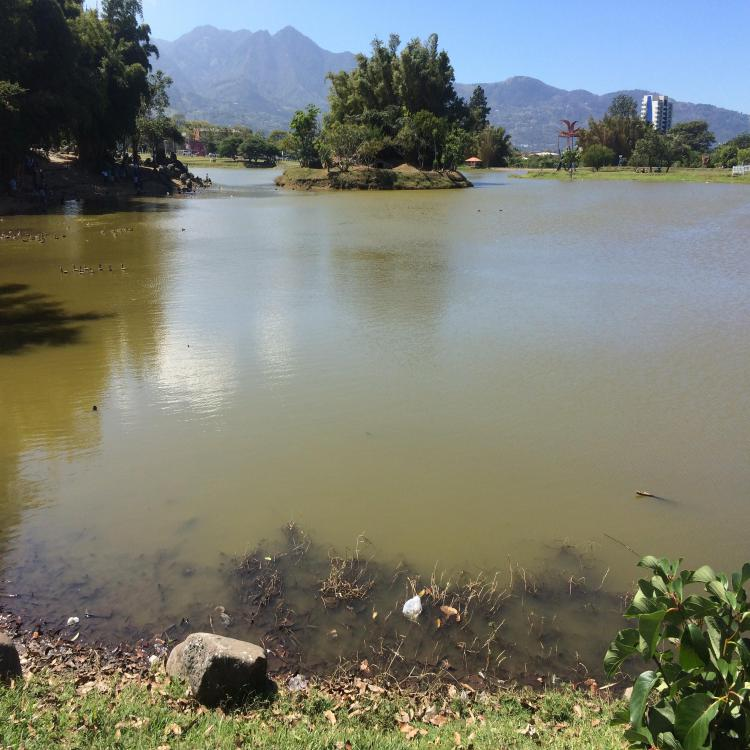Other plastic wrapper: (67, 616, 79, 626)
Single-use carrier bag: (403, 596, 422, 622)
